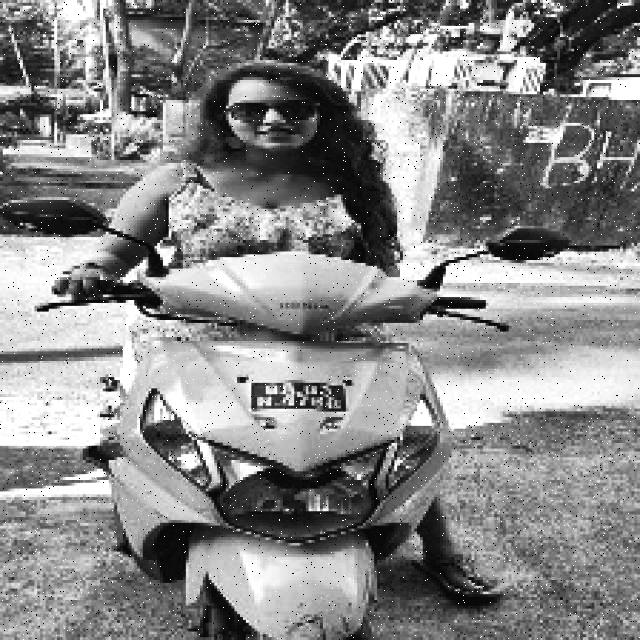Bike: (67, 254, 505, 634)
